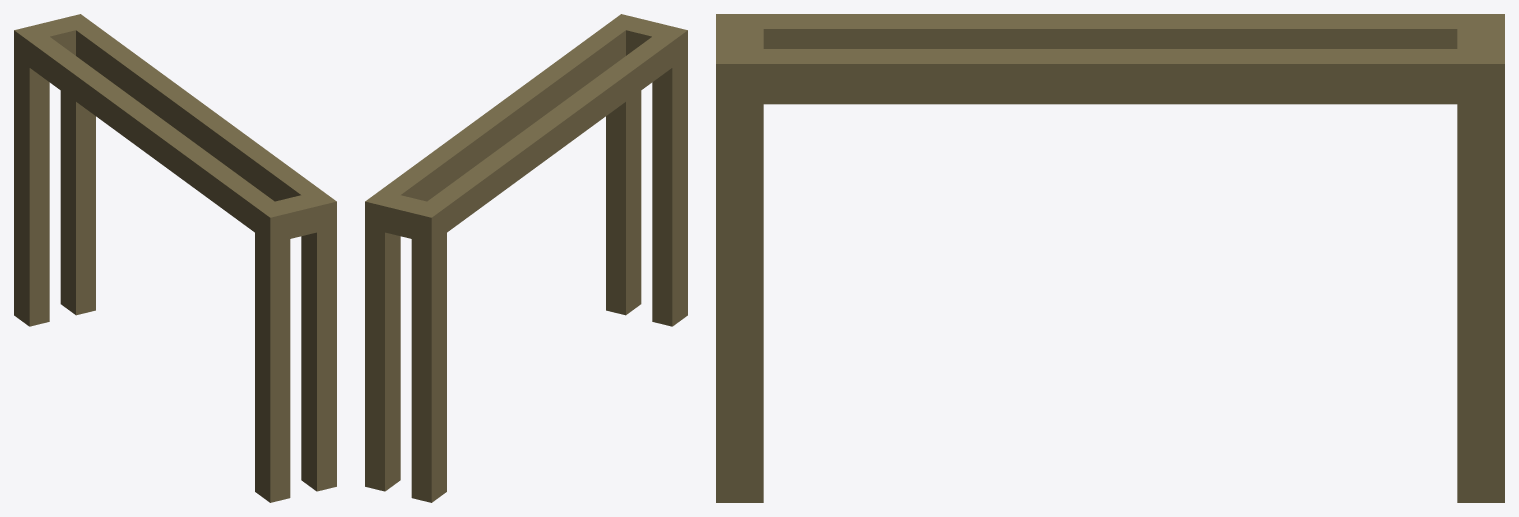
File: DoorFrame.fbx
3 renders of one model, left to right at view 1: azimuth 30°, elevation 25°; view 2: azimuth 150°, elevation 25°; view 3: azimuth 270°, elevation 25°, orthographic. The views are drawn at different scales.
Parts seen in each view (by area): view 1: frame; view 2: frame; view 3: frame.
Boxes of the visible parts, bbox=[...] form: frame: bbox=[14, 14, 336, 502]; frame: bbox=[365, 14, 687, 502]; frame: bbox=[716, 14, 1504, 502].
Size of the model in its own units: 0.2462 by 1.01 by 1.64.
